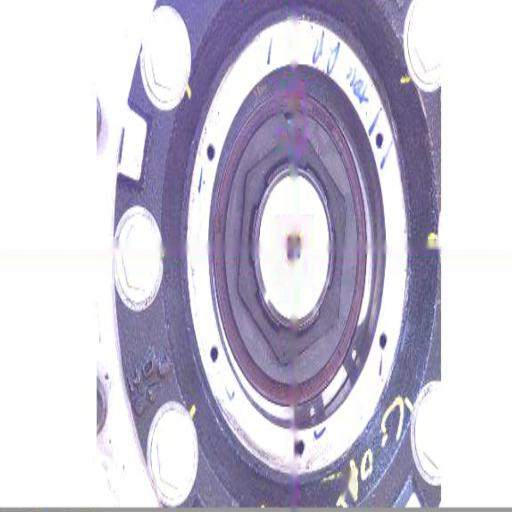center: (286, 230, 303, 270)
notch: (278, 103, 300, 133)
